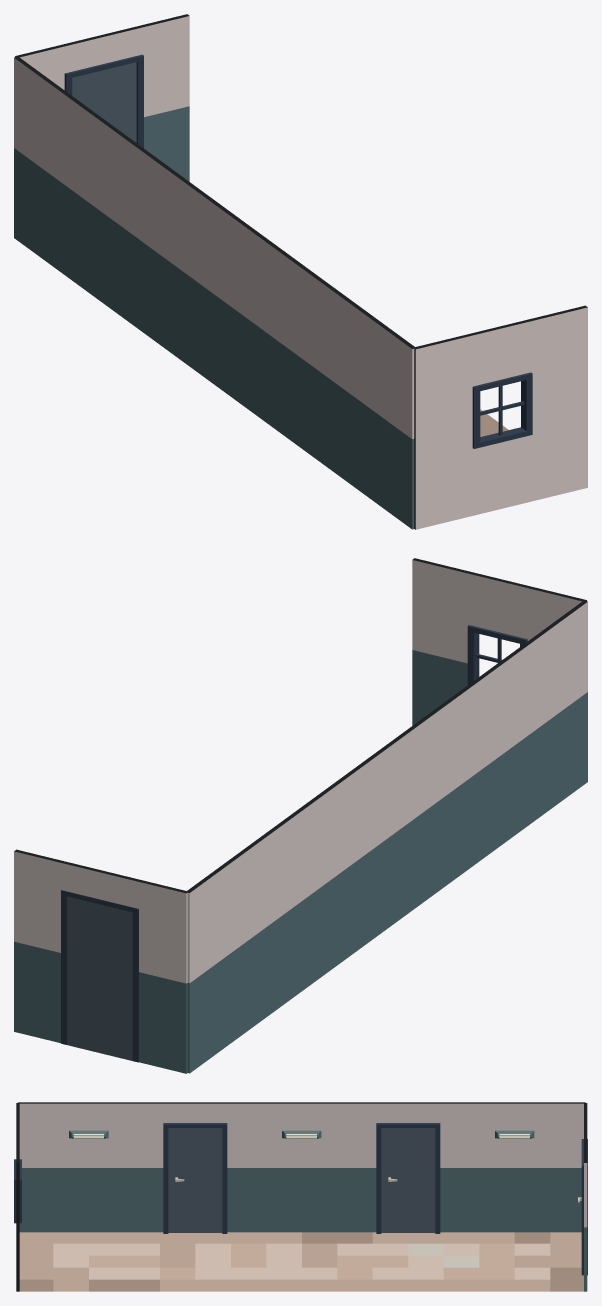
Rendered from corridor.fbx.
3 views of the same model, one above another, from view 1: azimuth 30°, elevation 25°; view 2: azimuth 150°, elevation 25°; view 3: azimuth 270°, elevation 25° (orthographic). The views are drawn at different scales.
Parts seen in each view (by area): view 1: wall, window_wall, exit_wall, exit_door, window; view 2: wall, exit_wall, window_wall, exit_door, window; view 3: wall, floor, corridor_door_1, corridor_door_2, exit_wall, window_wall, exit_door, window, light.001, light, light.002.
Part boxes in pixels (x1=…): wall: x1=14, y1=57, x2=415, y2=529; window_wall: x1=414, y1=305, x2=587, y2=529; exit_wall: x1=15, y1=14, x2=189, y2=181; exit_door: x1=64, y1=54, x2=143, y2=148; window: x1=472, y1=372, x2=532, y2=448; wall: x1=187, y1=600, x2=587, y2=1073; exit_wall: x1=14, y1=849, x2=188, y2=1073; window_wall: x1=412, y1=558, x2=586, y2=725; exit_door: x1=61, y1=890, x2=138, y2=1062; window: x1=467, y1=625, x2=527, y2=684; wall: x1=18, y1=1102, x2=585, y2=1232; floor: x1=19, y1=1232, x2=583, y2=1291; corridor_door_1: x1=376, y1=1123, x2=440, y2=1233; corridor_door_2: x1=163, y1=1123, x2=227, y2=1233; exit_wall: x1=584, y1=1103, x2=587, y2=1291; window_wall: x1=16, y1=1103, x2=19, y2=1291; exit_door: x1=578, y1=1139, x2=587, y2=1275; window: x1=14, y1=1159, x2=21, y2=1223; light.001: x1=69, y1=1130, x2=108, y2=1138; light: x1=282, y1=1130, x2=321, y2=1138; light.002: x1=495, y1=1130, x2=534, y2=1138.
Size of the model in its own units: 405 by 400 by 1618.
